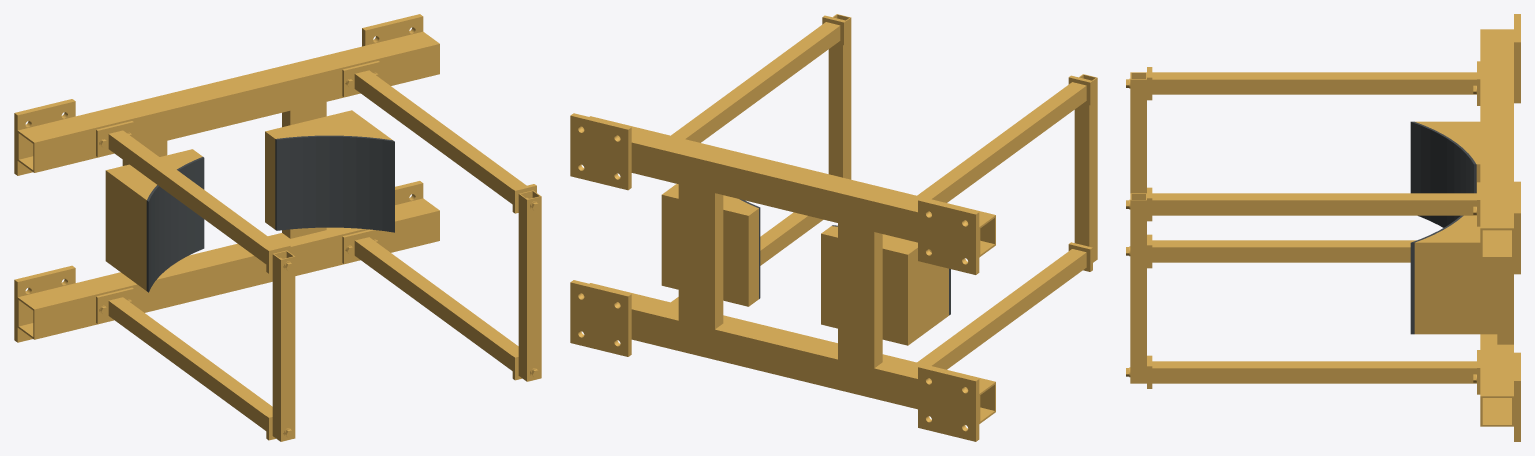
File: corner_cradle_S01.glb
3 views of the same model, side by side, from view 1: azimuth 30°, elevation 25°; view 2: azimuth 150°, elevation 25°; view 3: azimuth 270°, elevation 25° (orthographic).
Parts seen in each view (by area): view 1: cradle_longitudinal_box_1160, cradle_longitudinal_box_720, cradle_replaceable_contact_liner_220, cradle_contour_shoe_-220, cradle_capture_post_340_1160, cradle_capture_post_-340_1160, cradle_capture_post_-340_720, cradle_capture_post_340_720, cradle_replaceable_contact_liner_-220, cradle_removable_capture_crossbar_340, cradle_removable_capture_crossbar_-340, cradle_contour_shoe_220 (+9 smaller); view 2: cradle_longitudinal_box_1160, cradle_longitudinal_box_720, cradle_contour_shoe_-220, cradle_cross_box_220, cradle_cross_box_-220, cradle_contour_shoe_220, cradle_capture_post_340_1160, cradle_capture_post_-340_720, cradle_capture_post_-340_1160, cradle_foot_-480_720, cradle_foot_-480_1160, cradle_foot_480_720 (+4 smaller); view 3: cradle_contour_shoe_220, cradle_longitudinal_box_1160, cradle_capture_post_340_720, cradle_capture_post_-340_1160, cradle_capture_post_340_1160, cradle_capture_post_-340_720, cradle_replaceable_contact_liner_-220, cradle_removable_capture_crossbar_340, cradle_longitudinal_box_720, cradle_removable_capture_crossbar_-340, cradle_cross_box_220, cradle_contour_shoe_-220 (+4 smaller).
Boxes of the visible parts, left/top/right/bottom form: cradle_longitudinal_box_1160: left=17, top=31, right=439, bottom=172; cradle_longitudinal_box_720: left=17, top=198, right=439, bottom=339; cradle_replaceable_contact_liner_220: left=275, top=135, right=394, bottom=232; cradle_contour_shoe_-220: left=105, top=149, right=202, bottom=290; cradle_capture_post_340_1160: left=354, top=70, right=526, bottom=204; cradle_capture_post_-340_1160: left=108, top=130, right=280, bottom=263; cradle_capture_post_-340_720: left=108, top=297, right=272, bottom=430; cradle_capture_post_340_720: left=354, top=237, right=518, bottom=370; cradle_replaceable_contact_liner_-220: left=146, top=157, right=204, bottom=292; cradle_removable_capture_crossbar_340: left=518, top=190, right=541, bottom=381; cradle_removable_capture_crossbar_-340: left=272, top=250, right=295, bottom=441; cradle_contour_shoe_220: left=265, top=110, right=392, bottom=229; cradle_longitudinal_box_1160: left=581, top=116, right=995, bottom=257; cradle_longitudinal_box_720: left=581, top=283, right=995, bottom=423; cradle_contour_shoe_-220: left=821, top=226, right=948, bottom=345; cradle_cross_box_220: left=678, top=184, right=723, bottom=329; cradle_cross_box_-220: left=838, top=223, right=882, bottom=368; cradle_contour_shoe_220: left=661, top=184, right=758, bottom=306; cradle_capture_post_340_1160: left=671, top=22, right=840, bottom=142; cradle_capture_post_-340_720: left=917, top=249, right=1086, bottom=369; cradle_capture_post_-340_1160: left=917, top=82, right=1086, bottom=202; cradle_foot_-480_720: left=918, top=365, right=979, bottom=441; cradle_foot_-480_1160: left=918, top=198, right=979, bottom=274; cradle_foot_480_720: left=570, top=280, right=631, bottom=356; cradle_contour_shoe_220: left=1414, top=215, right=1497, bottom=334; cradle_longitudinal_box_1160: left=1480, top=29, right=1513, bottom=258; cradle_capture_post_340_720: left=1152, top=361, right=1476, bottom=383; cradle_capture_post_-340_1160: left=1152, top=72, right=1476, bottom=94; cradle_capture_post_340_1160: left=1152, top=193, right=1476, bottom=215; cradle_capture_post_-340_720: left=1152, top=240, right=1416, bottom=262; cradle_replaceable_contact_liner_-220: left=1410, top=121, right=1476, bottom=227; cradle_removable_capture_crossbar_340: left=1130, top=193, right=1146, bottom=383; cradle_longitudinal_box_720: left=1480, top=334, right=1513, bottom=426; cradle_removable_capture_crossbar_-340: left=1130, top=72, right=1146, bottom=193; cradle_cross_box_220: left=1497, top=259, right=1513, bottom=344; cradle_contour_shoe_-220: left=1415, top=121, right=1480, bottom=192.
Bounding box in the file's own units: 1.12 × 0.6 × 0.9382.
